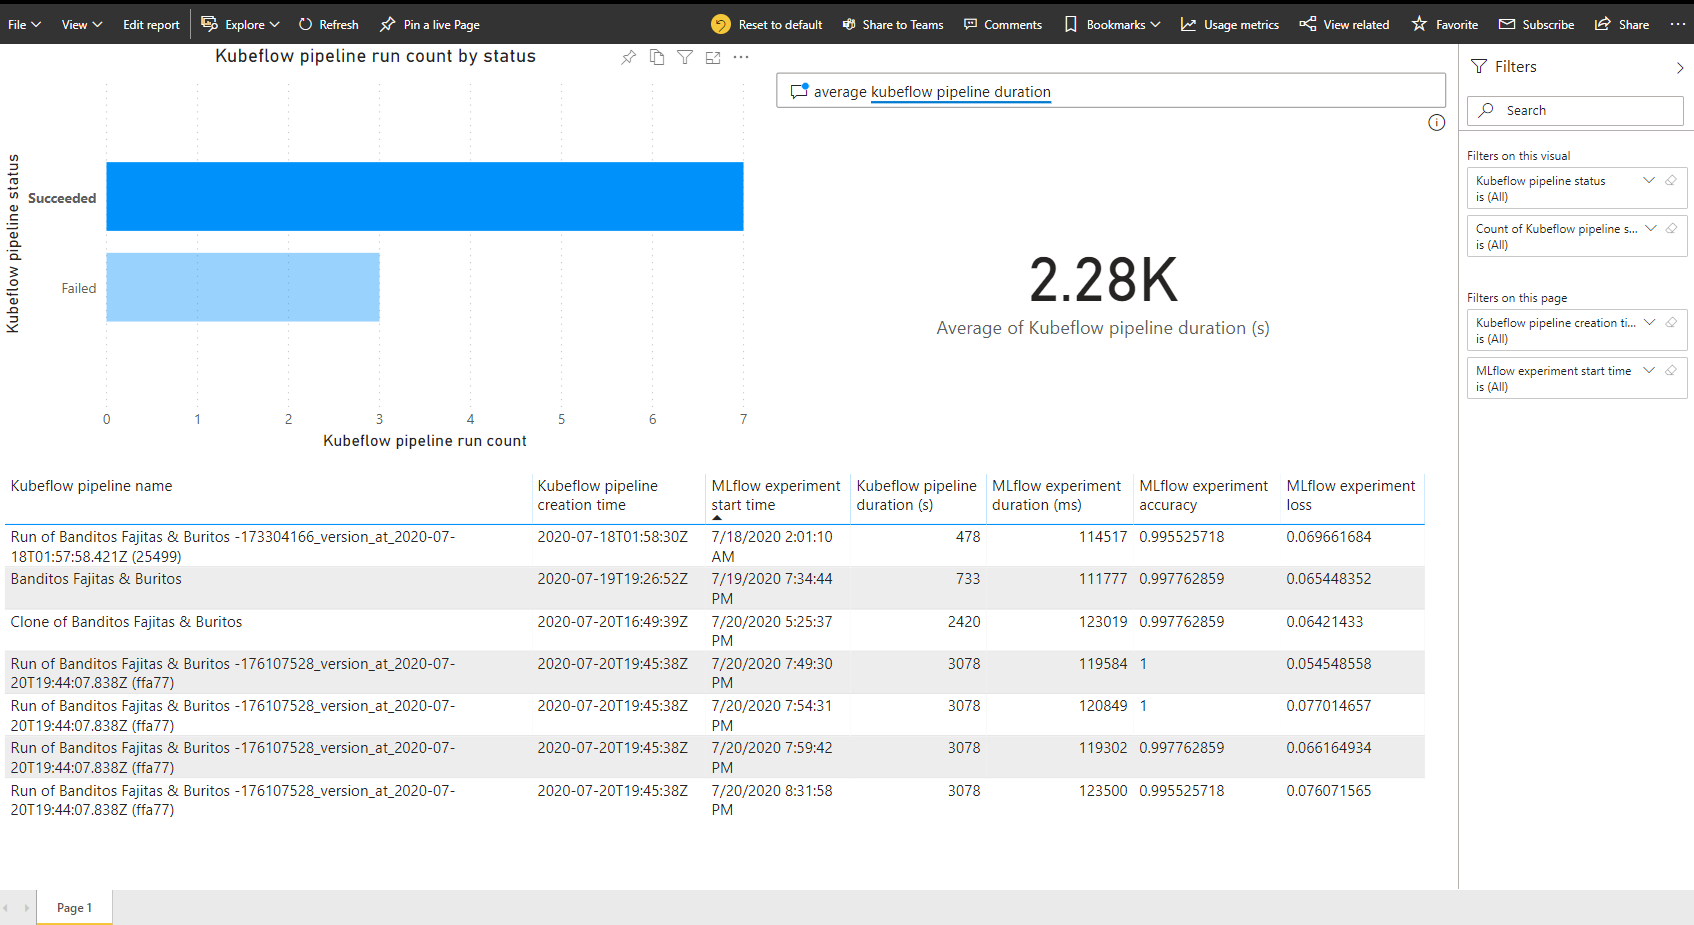

The page's visual inventory and layout, read from the dashboard file:
{"tool":"powerbi","page":{"name":"Page 1","canvas":[1280,720],"ordinal":0},"visuals":[{"type":"barChart","title":"Kubeflow pipeline run count by status","fields":{"Category":["KFP_MLF Runs.kfp.status"],"Y":["CountNonNull(KFP_MLF Runs.kfp.status)"]},"box":[0,0,663.4,360],"z":0},{"type":"tableEx","fields":{"Values":["KFP_MLF Runs.Kubeflow pipeline name","KFP_MLF Runs.Kubeflow pipeline URL","KFP_MLF Runs.MLflow experiment URL","KFP_MLF Runs.kfp.created_at","KFP_MLF Runs.MLflow experiment start time","KFP_MLF Runs.Kubeflow pipeline duration (s)","KFP_MLF Runs.MLflow experiment duration (ms)","KFP_MLF Runs.get.accuracy","KFP_MLF Runs.get.loss"]},"box":[1.1,371.3,1278.9,349],"z":1000},{"type":"textbox","box":[673,0,607,360],"z":2000},{"type":"qnaVisual","box":[673.3,0,605.3,348.7],"z":3000}]}

Visuals, with their boxes on the page's 1280x720 design canvas (x1, y1, x2, y2). These are canvas units, not pixel positions in the 1694x925 screenshot, which may show the page scaled, cropped or inside an application window:
"Kubeflow pipeline run count by status" barChart: <bbox>0, 0, 663, 360</bbox>
tableEx - KFP_MLF Runs.Kubeflow pipeline name x KFP_MLF Runs.Kubeflow pipeline URL: <bbox>1, 371, 1280, 720</bbox>
textbox: <bbox>673, 0, 1280, 360</bbox>
qnaVisual: <bbox>673, 0, 1279, 349</bbox>
